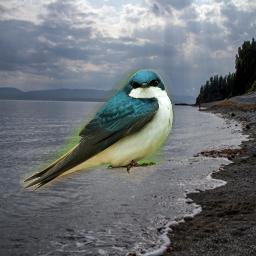Swallow: (20, 69, 175, 191)
